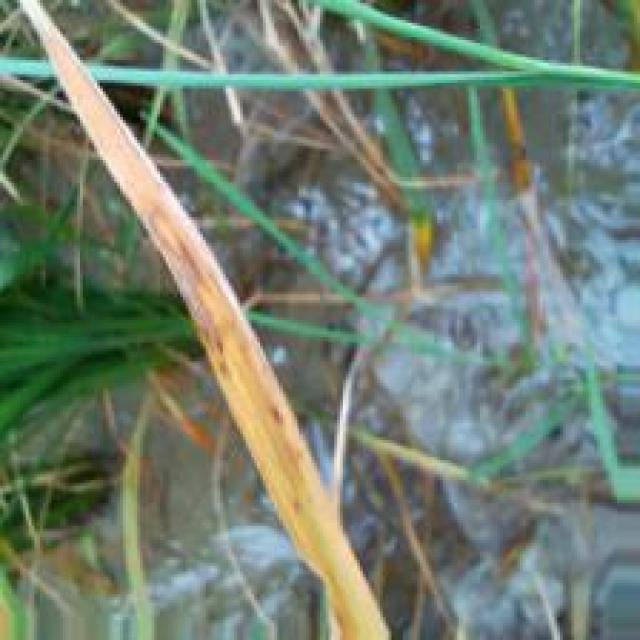Bacterial_Leaf_Blight: (65, 80, 389, 640)
